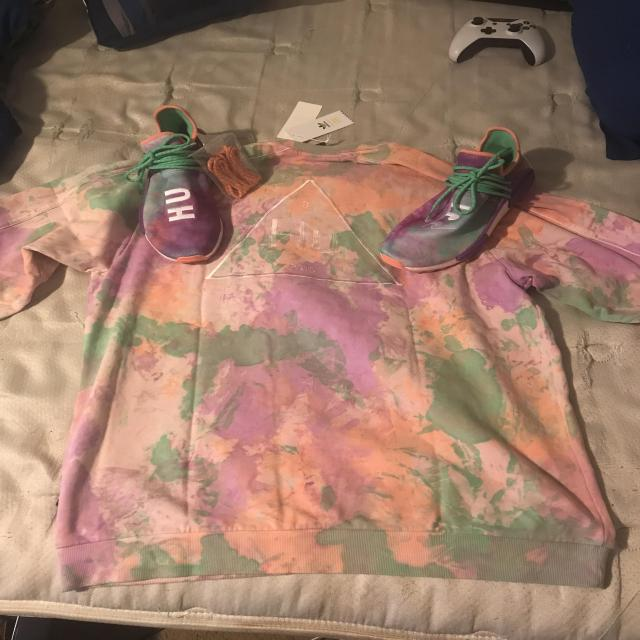shoe: (373, 124, 536, 275), (124, 103, 236, 265)
